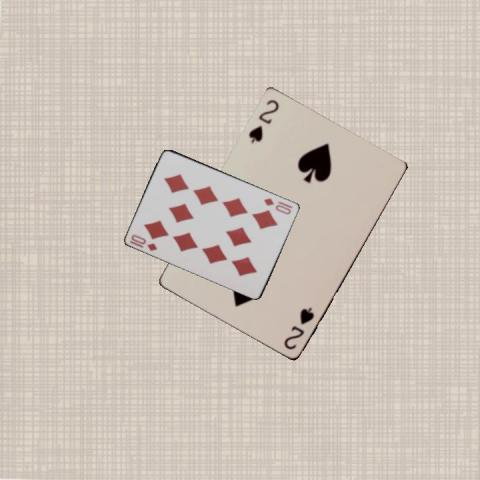10d: (128, 231, 159, 253), (261, 195, 293, 216)
2s: (245, 96, 281, 144), (281, 304, 316, 352)
